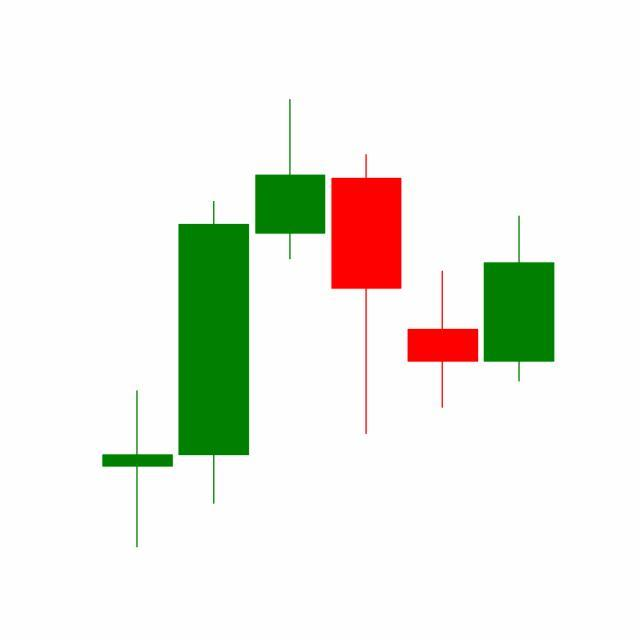Hikkake Pattern: (175, 99, 555, 509)
